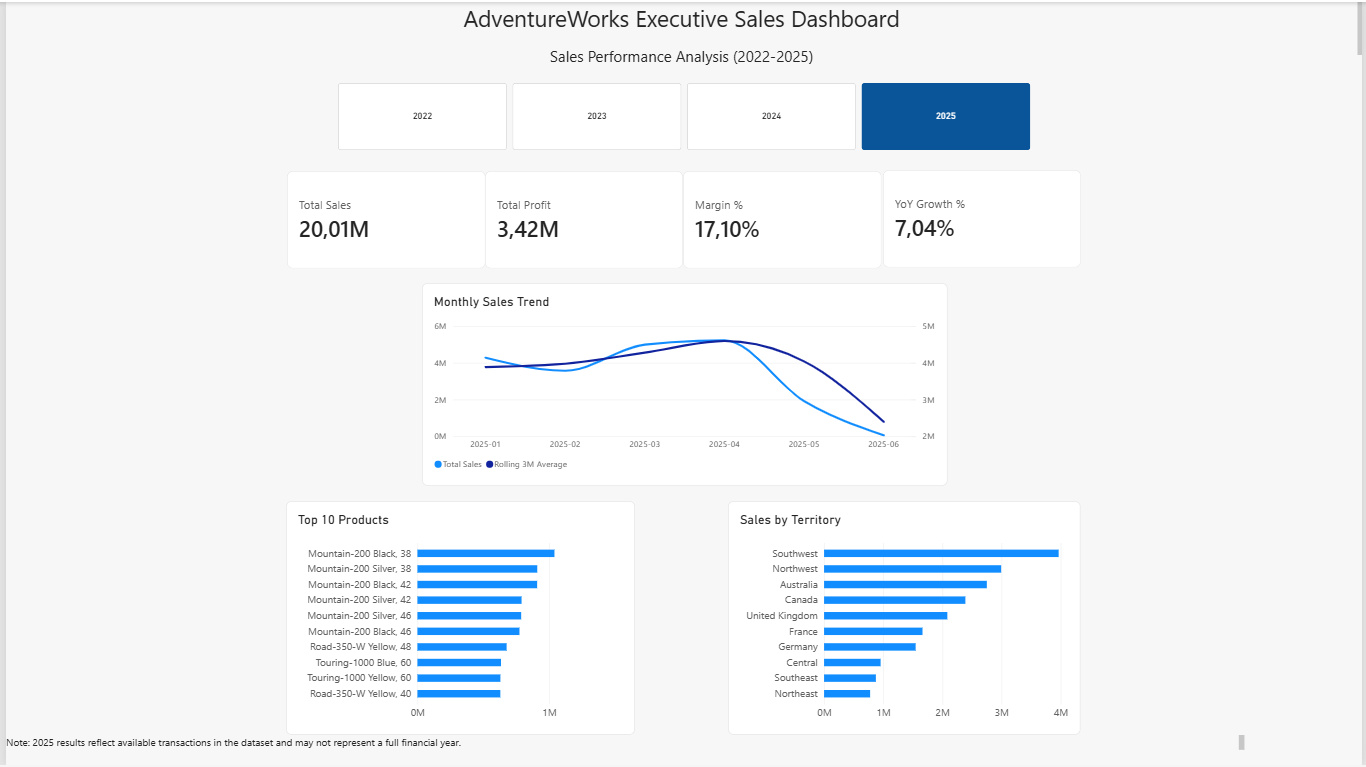

The page's visual inventory and layout, read from the dashboard file:
{"tool":"powerbi","page":{"name":"Executive Overview","canvas":[1920,1080],"ordinal":0},"visuals":[{"type":"cardVisual","fields":{"Data":["FactSales.Total Sales"]},"box":[397.1,239.3,281.7,138.3],"z":0},{"type":"cardVisual","fields":{"Data":["FactSales.Total Profit"]},"box":[677.4,239.8,280,138.3],"z":1000},{"type":"cardVisual","fields":{"Data":["FactSales.Margin %"]},"box":[958.2,239.8,281.7,138.3],"z":2000},{"type":"cardVisual","fields":{"Data":["FactSales.YoY Growth %"]},"box":[1240.8,238.1,280,138.3],"z":3000},{"type":"lineChart","title":"Monthly Sales Trend","fields":{"Category":["DimDate.YearMonth"],"Y":["FactSales.Total Sales"],"Y2":["FactSales.Rolling 3M Average"]},"box":[589.5,397.7,743.6,286.8],"z":4000},{"type":"clusteredBarChart","title":"Sales by Territory","fields":{"Category":["DimTerritory.Name"],"Y":["FactSales.Total Sales"]},"box":[1022.1,706.4,498.8,331.4],"z":5000},{"type":"clusteredBarChart","title":"Top 10 Products","fields":{"Category":["DimProduct.Name"],"Y":["FactSales.Total Sales"]},"box":[395.9,706.4,493.6,331.4],"z":6000},{"type":"advancedSlicerVisual","fields":{"Values":["DimDate.Year"]},"box":[469.2,115.4,982.1,95.1],"z":7000},{"type":"textbox","box":[0,0,1920.6,98.2],"z":8000},{"type":"textbox","box":[0,1038,1753.3,28.3],"z":9000}]}

Visuals, with their boxes in screenshot pixels (x1, y1, x2, y2), scaled from the page's 1920x1080 canvas onto the 1366x767 screenshot:
cardVisual - FactSales.Total Sales: x1=283 y1=170 x2=483 y2=268
cardVisual - FactSales.Total Profit: x1=482 y1=170 x2=681 y2=269
cardVisual - FactSales.Margin %: x1=682 y1=170 x2=882 y2=269
cardVisual - FactSales.YoY Growth %: x1=883 y1=169 x2=1082 y2=267
"Monthly Sales Trend" lineChart: x1=419 y1=282 x2=948 y2=486
"Sales by Territory" clusteredBarChart: x1=727 y1=502 x2=1082 y2=737
"Top 10 Products" clusteredBarChart: x1=282 y1=502 x2=633 y2=737
advancedSlicerVisual - DimDate.Year: x1=334 y1=82 x2=1033 y2=149
textbox: x1=0 y1=0 x2=1365 y2=70
textbox: x1=0 y1=737 x2=1247 y2=757
